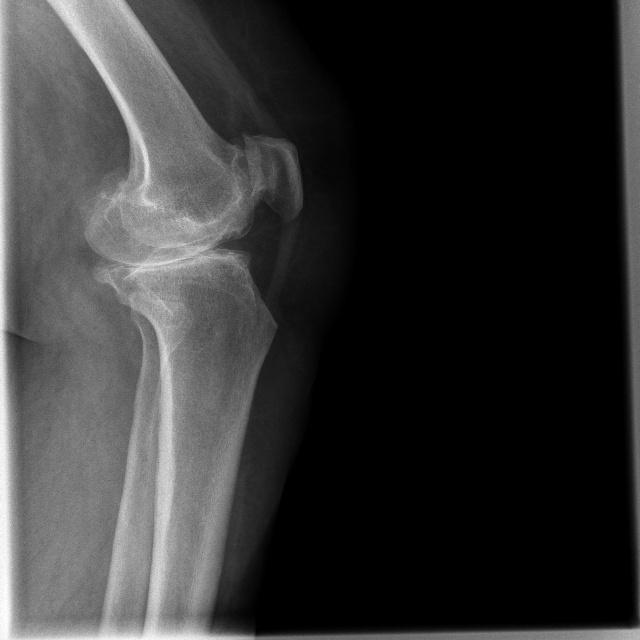Knee: (82, 132, 305, 339)
